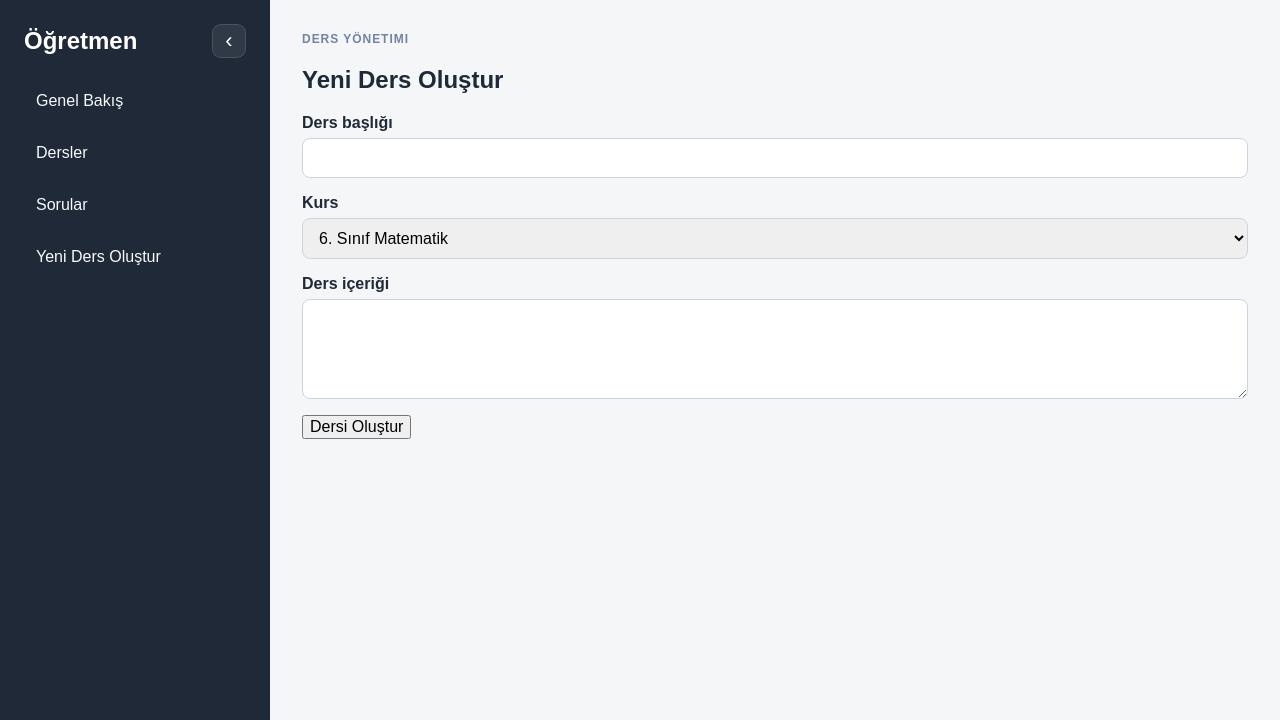
Test: NewLessonPage › ders başlığı boşsa form gönderilmemeli
The width and height of the screenshot is (1280, 720).
Click the button "Dersi Oluştur" at (357, 427), box [302, 415, 411, 439]
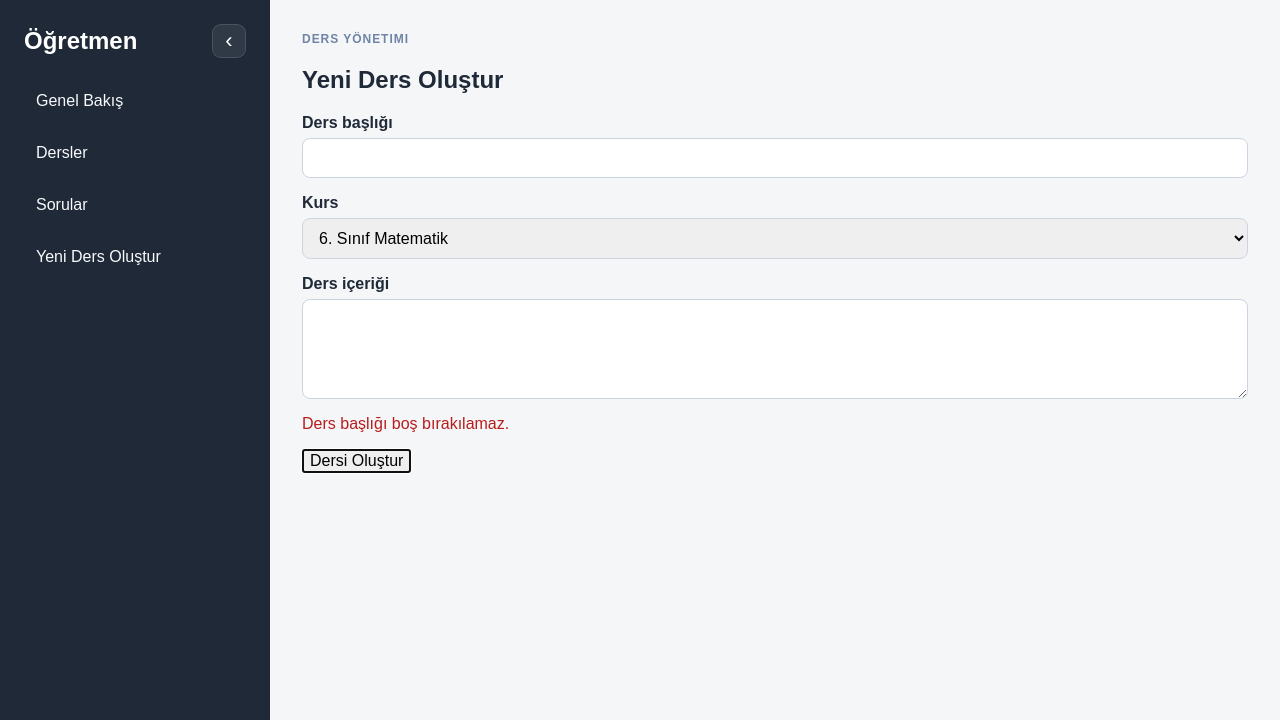
Now the text "Ders başlığı boş bırakılamaz." is shown, box [302, 415, 509, 432]
